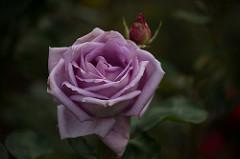Rose: (44, 28, 166, 157)
